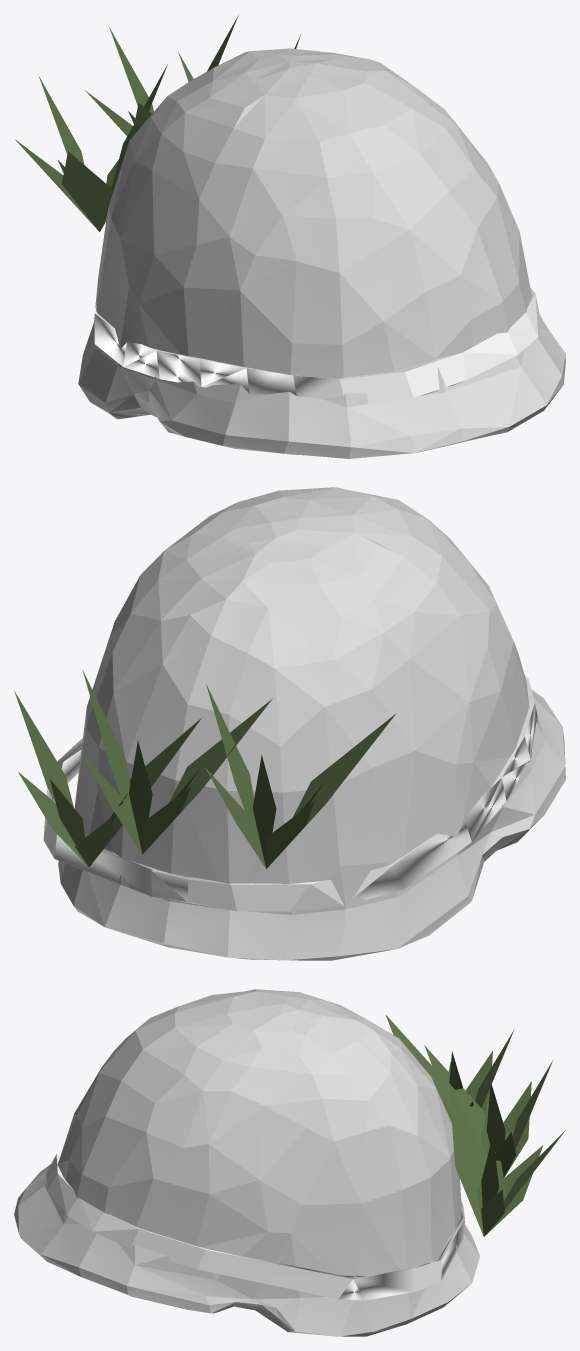
The model's file is m1_foliage.glb.
3 renders of one model, top to bottom at view 1: azimuth 30°, elevation 25°; view 2: azimuth 150°, elevation 25°; view 3: azimuth 270°, elevation 25°, orthographic. The views are drawn at different scales.
Visible parts, largest first — view 1: helmet_foliage_cover, helmet_foliage_band, helmet_foliage_foliage.002, helmet_foliage_foliage.001; view 2: helmet_foliage_cover, helmet_foliage_band, helmet_foliage_foliage.002, helmet_foliage_foliage.001, helmet_foliage_foliage; view 3: helmet_foliage_cover, helmet_foliage_band, helmet_foliage_foliage, helmet_foliage_foliage.001, helmet_foliage_foliage.002.
Boxes of the visible parts, x1,y1,x2,y2 form: helmet_foliage_cover: [78, 48, 565, 458]; helmet_foliage_band: [94, 287, 540, 404]; helmet_foliage_foliage.002: [15, 64, 167, 231]; helmet_foliage_foliage.001: [85, 15, 238, 136]; helmet_foliage_cover: [58, 487, 565, 960]; helmet_foliage_band: [43, 675, 539, 911]; helmet_foliage_foliage.002: [204, 684, 396, 868]; helmet_foliage_foliage.001: [81, 669, 272, 854]; helmet_foliage_foliage: [14, 691, 201, 867]; helmet_foliage_cover: [14, 989, 479, 1336]; helmet_foliage_band: [46, 1147, 464, 1300]; helmet_foliage_foliage: [449, 1082, 565, 1236]; helmet_foliage_foliage.001: [424, 1045, 552, 1177]; helmet_foliage_foliage.002: [386, 1015, 514, 1122].
Bounding box in the file's own units: 0.2289 × 0.1917 × 0.3604.
